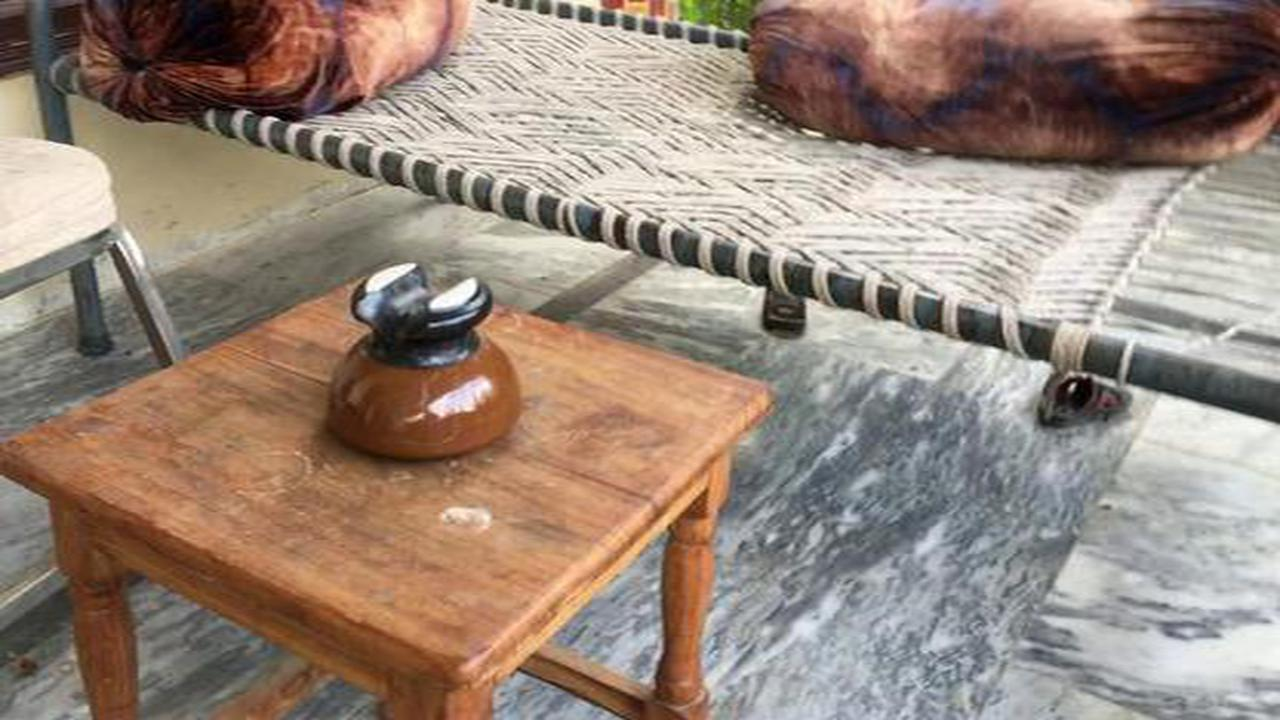insulator_pin: (287, 244, 554, 475)
